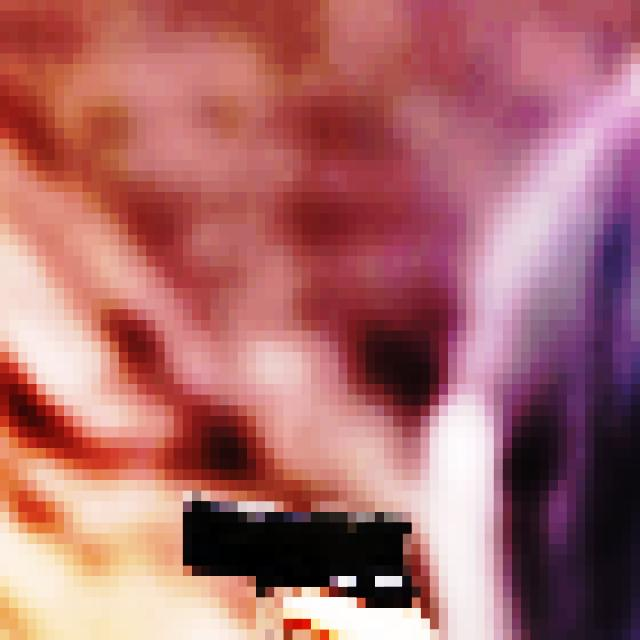arms: (137, 448, 448, 640)
